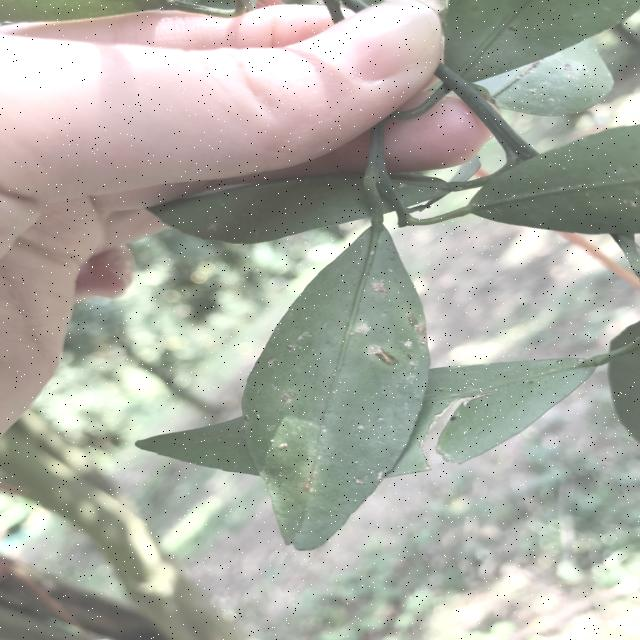canker: (244, 273, 435, 537), (480, 146, 640, 224)
